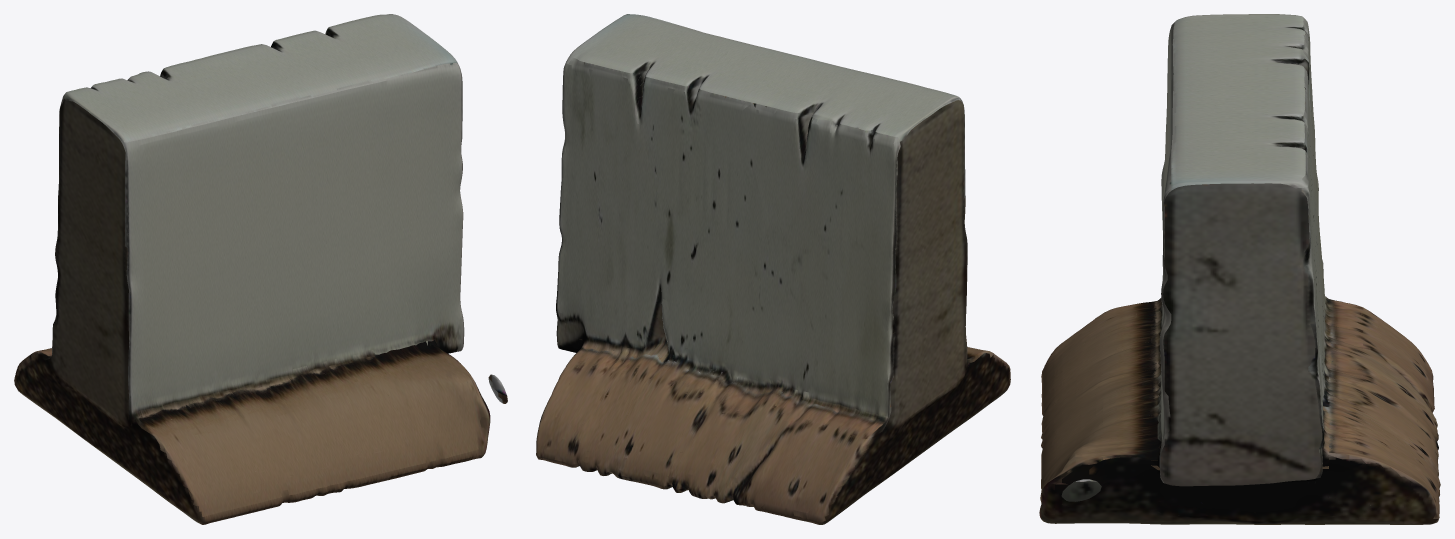
The model's file is foundation-skirt.glb.
The picture shows the model from 3 angles, left to right: view 1: azimuth 30°, elevation 25°; view 2: azimuth 150°, elevation 25°; view 3: azimuth 270°, elevation 25°; orthographic projection. The views are drawn at different scales.
Visible parts, largest first — view 1: tmp6gboroxd.ply; view 2: tmp6gboroxd.ply; view 3: tmp6gboroxd.ply.
Part boxes in pixels (x1,y1,x2,y2): tmp6gboroxd.ply: [14, 14, 507, 524]; tmp6gboroxd.ply: [536, 14, 1010, 524]; tmp6gboroxd.ply: [1039, 14, 1440, 524].
Bounding box in the file's own units: 1 × 1 × 1.
1 material, 1 textured.
